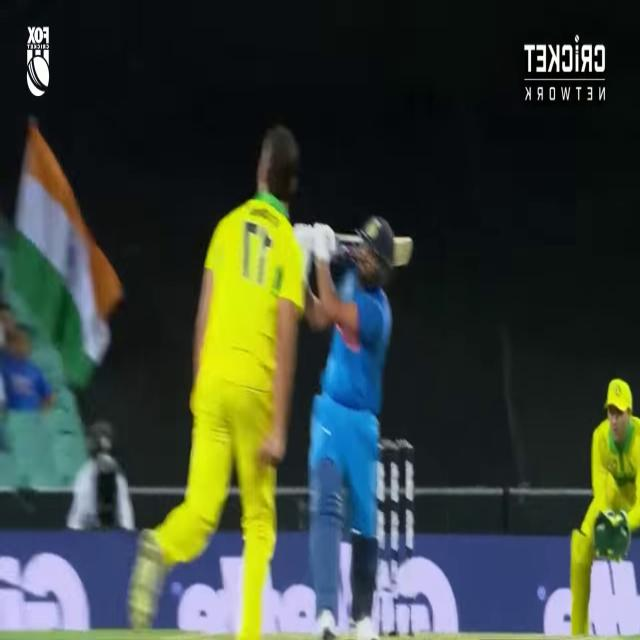stump: (375, 441, 417, 640)
